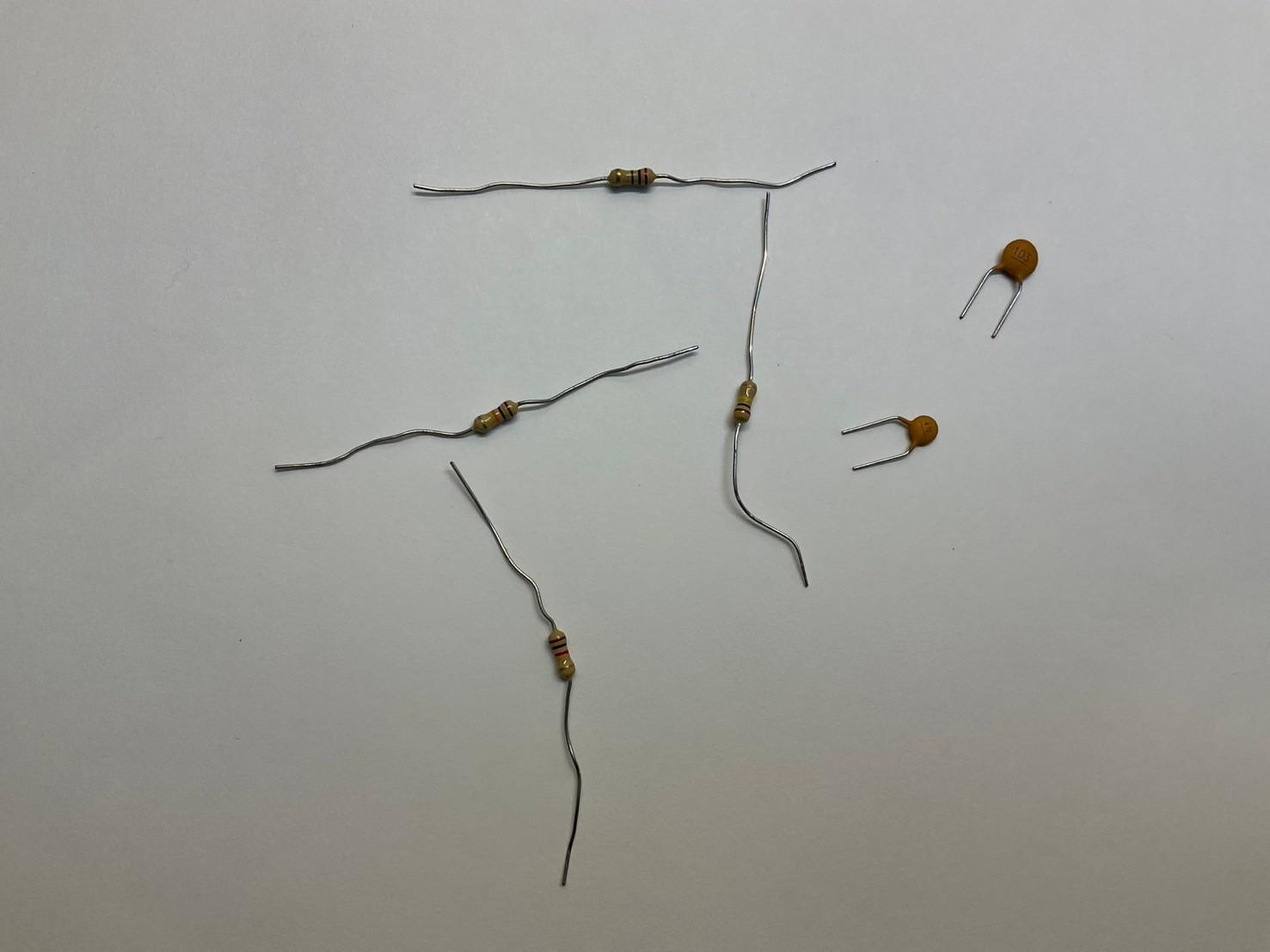resistor: (471, 399, 522, 434), (546, 629, 577, 681), (607, 168, 656, 192), (733, 378, 757, 422)
